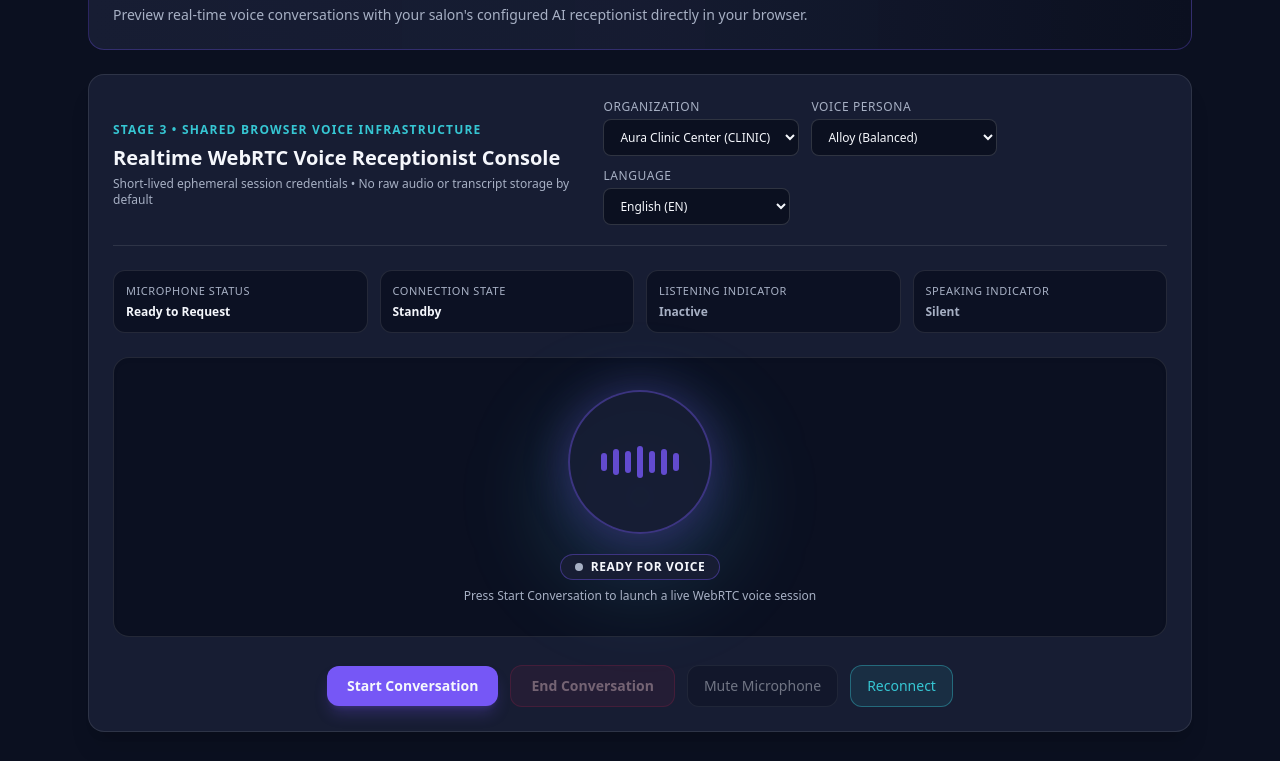
Test: Stage 3 Shared Browser Voice Infrastructure › 2. handles microphone permission denied state cleanly
(page scrolled)
Click the button with test id "start-conversation-button" at [413, 686], box [327,666,498,706]
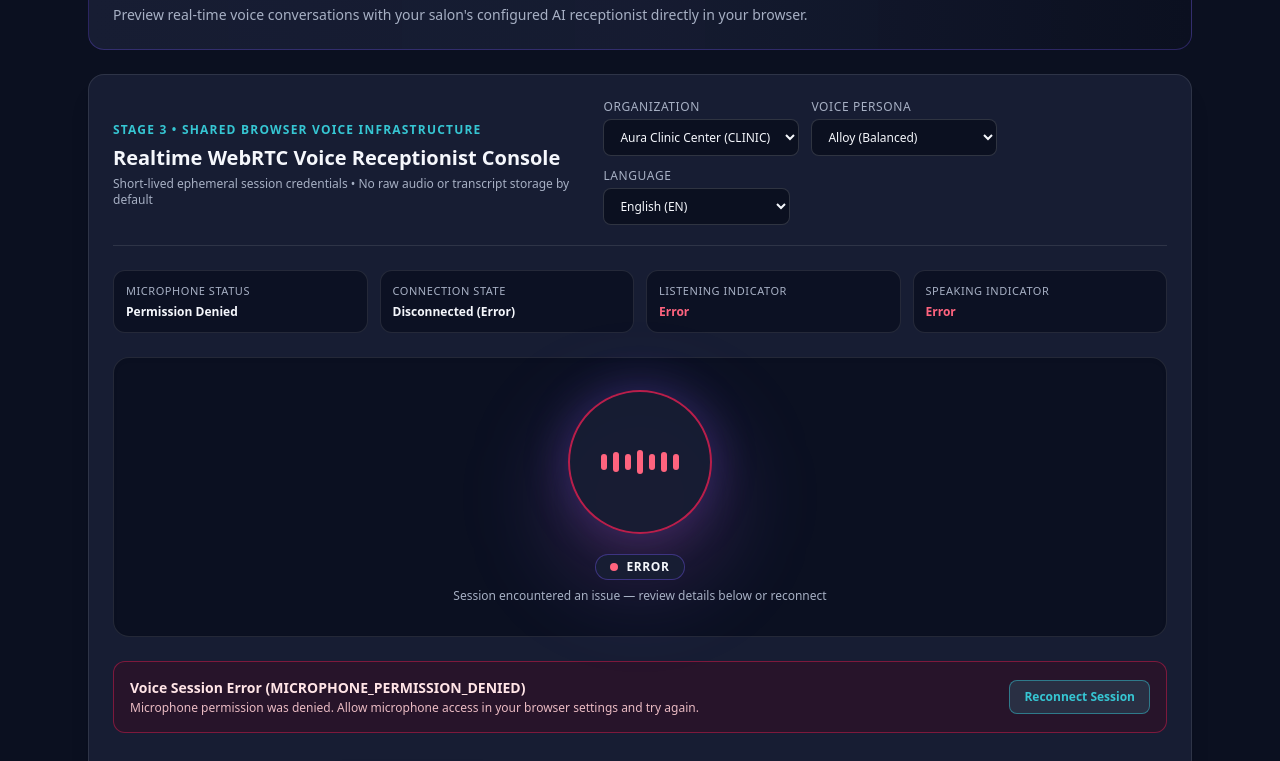
expect the element with test id "mic-permission-status" shows "Permission Denied": met, box [126,302,238,320]
expect the message with test id "voice-error-banner" shows "MICROPHONE_PERMISSION_DENIED": met, box [270,678,521,696]
